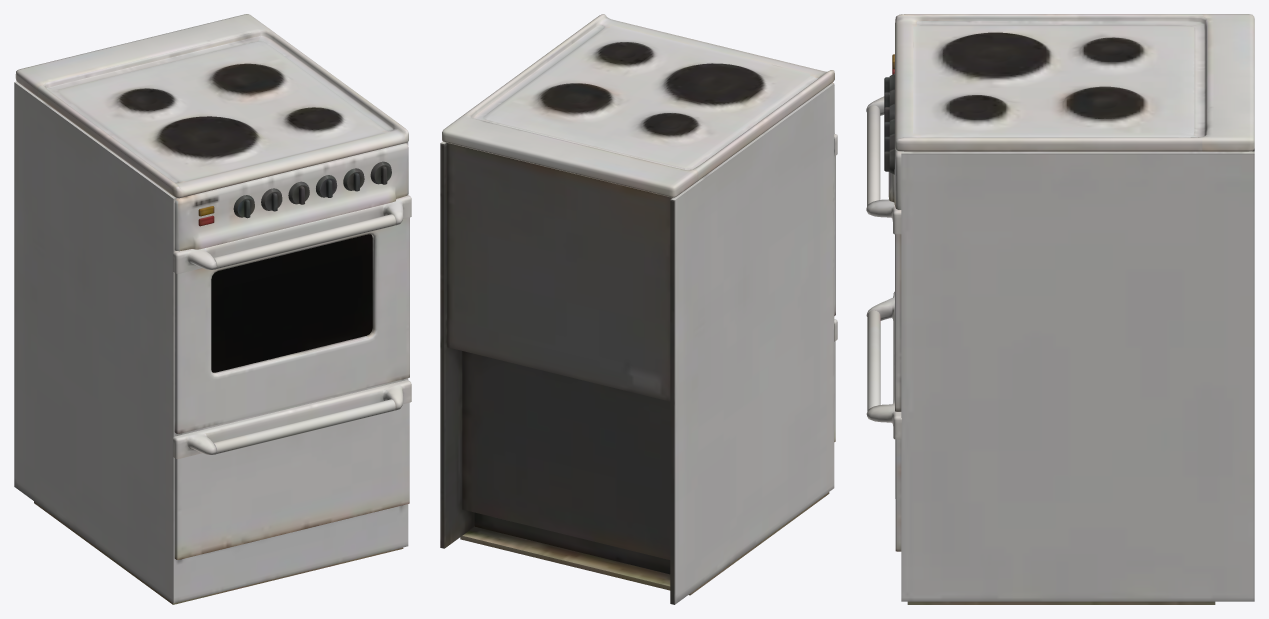
Rendered from electric_stove.glb.
The picture shows the model from 3 angles, left to right: view 1: azimuth 30°, elevation 25°; view 2: azimuth 150°, elevation 25°; view 3: azimuth 270°, elevation 25°; orthographic projection. The views are drawn at different scales.
Visible parts, largest first — view 1: stovetop, door_top, handle_bottom_attachment; view 2: stovetop; view 3: stovetop, door_top, handle_bottom_attachment.
Part boxes in pixels (x1,y1,x2,y2): stovetop: [14, 14, 408, 604]; door_top: [173, 195, 411, 433]; handle_bottom_attachment: [173, 380, 411, 559]; stovetop: [440, 14, 834, 604]; stovetop: [888, 14, 1254, 604]; door_top: [866, 96, 901, 411]; handle_bottom_attachment: [866, 291, 901, 551].
Size of the model in its own units: 0.5026 by 0.8587 by 0.6476.
Materials: 2 (2 with a texture image).
